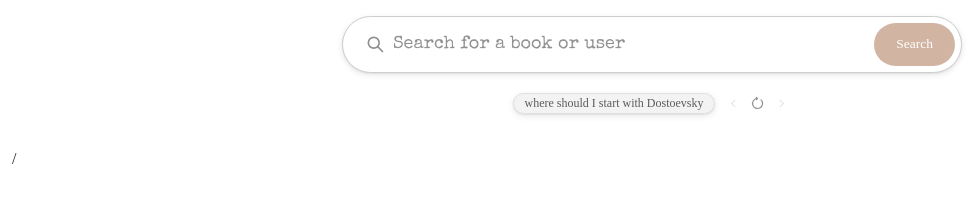
it: DiscoverPage › the canned search pills (LOS-212) › keeps the current row and its controls when a refresh fails
Expected: the button "where should I start with Dostoevsky" is shown, [512, 93, 716, 114]
Click the button named "Show different searches": (758, 104) [744, 91, 770, 117]
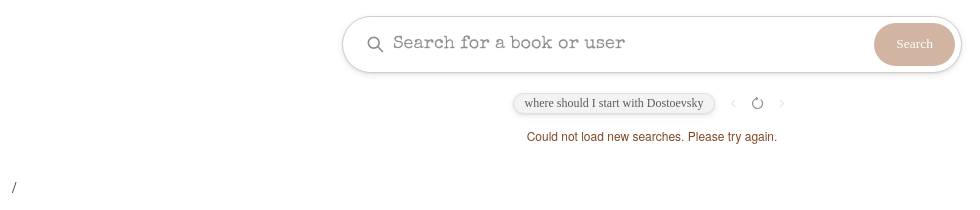
Expected: the button "where should I start with Dostoevsky" is shown, [512, 93, 716, 114]
Result: the text "Could not load new searches. Please try again." is shown at [527, 127, 777, 144]
